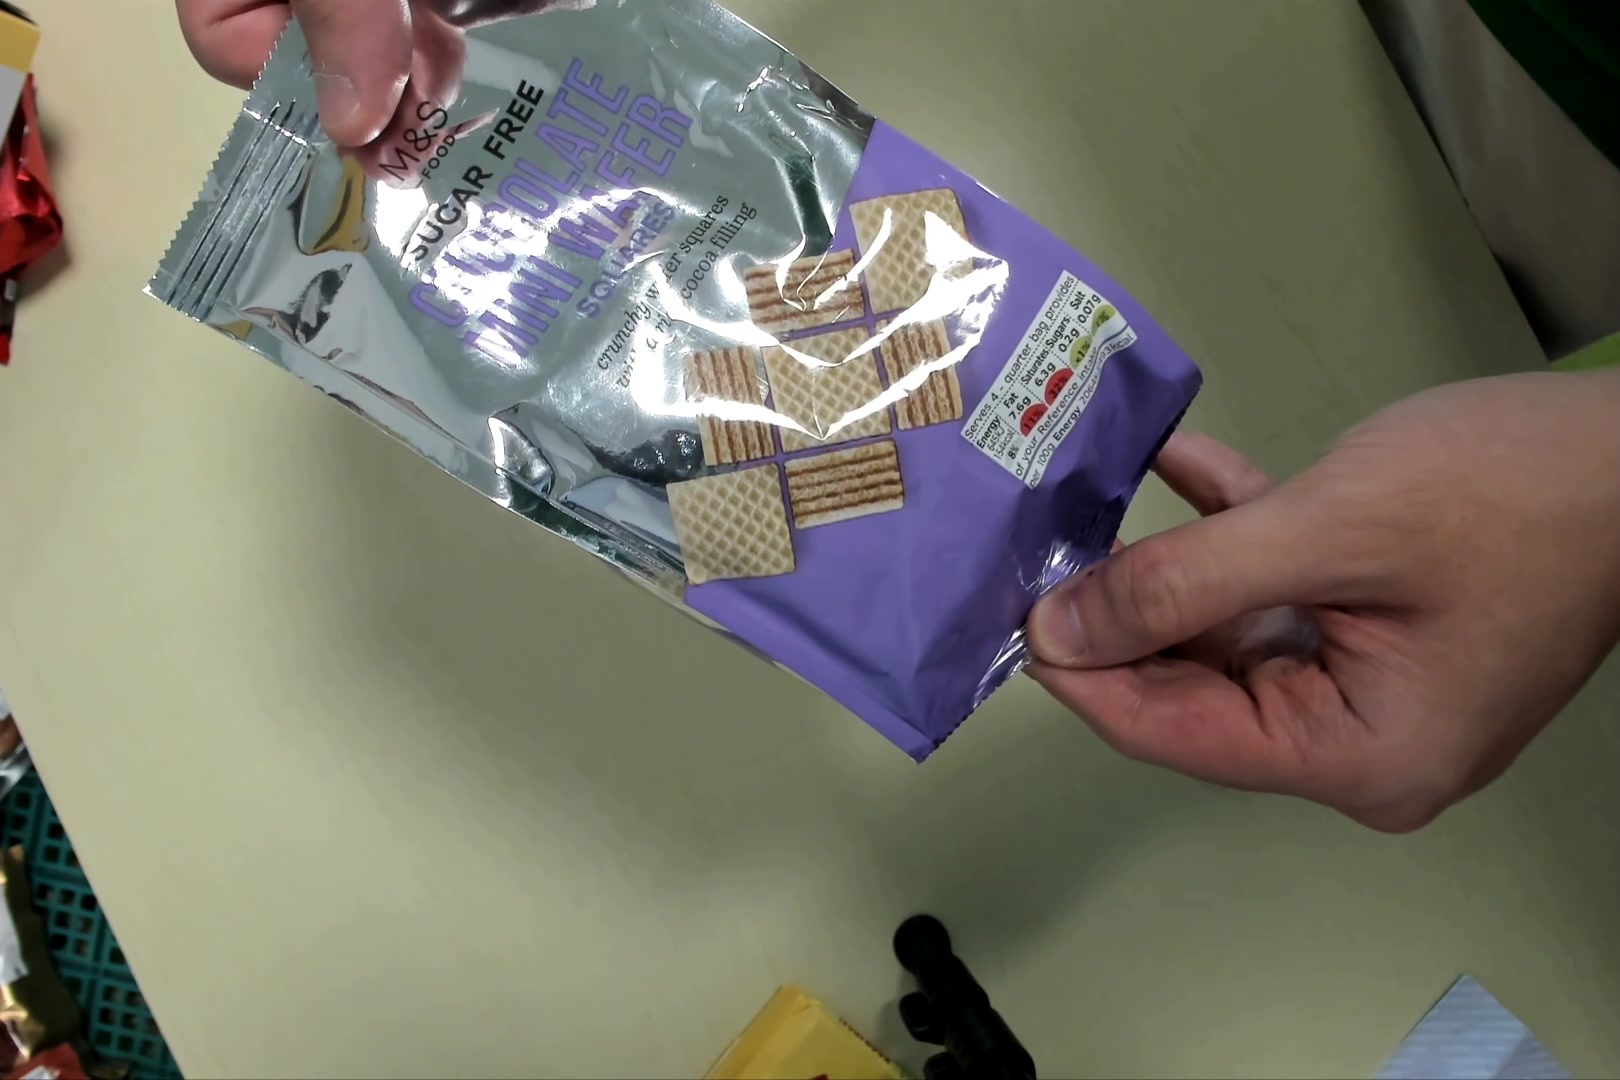SweetsChocolatesOthers_100-199g_NonHalal_NonHealthy: (145, 1, 1201, 765)
